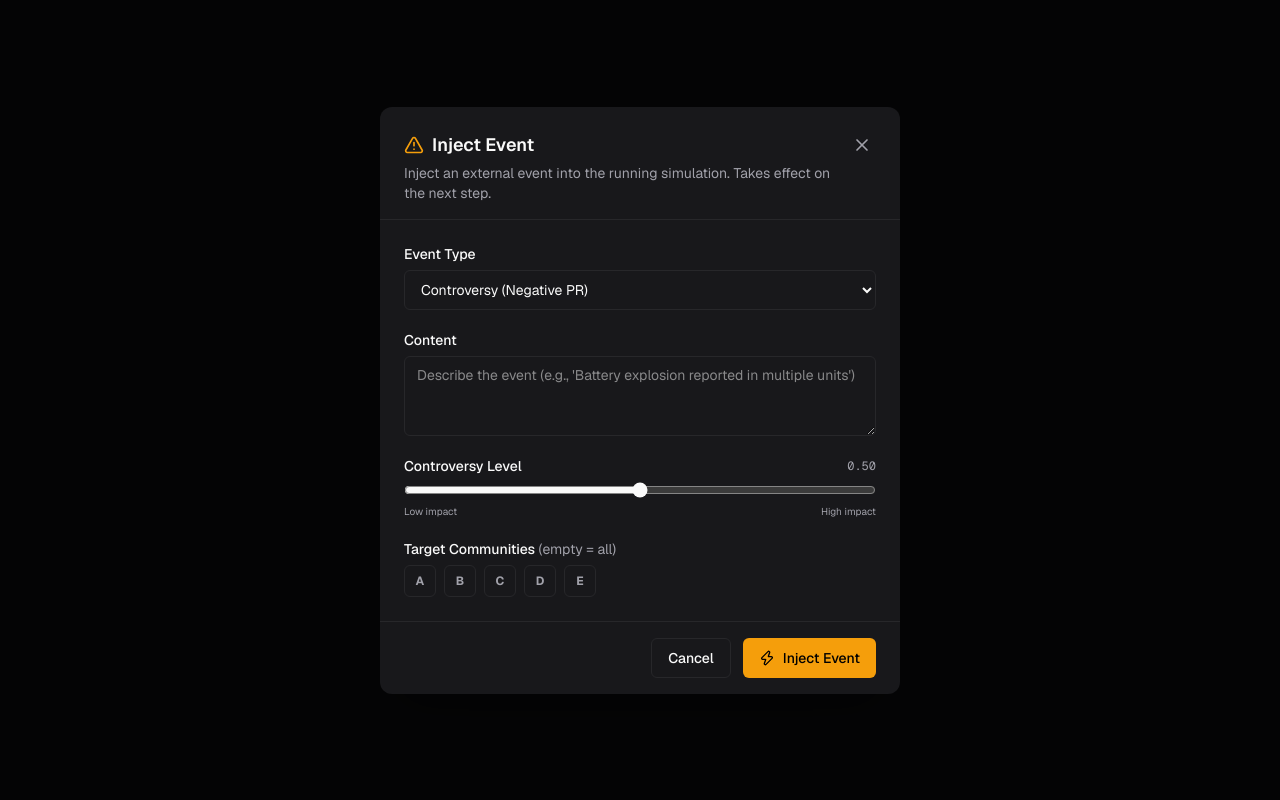
InjectEventModal › shows success view after successful injection
The width and height of the screenshot is (1280, 800).
Replace the text in the text box with placeholder "Describe the event" with "Test" at (640, 396), box [404, 356, 876, 436]
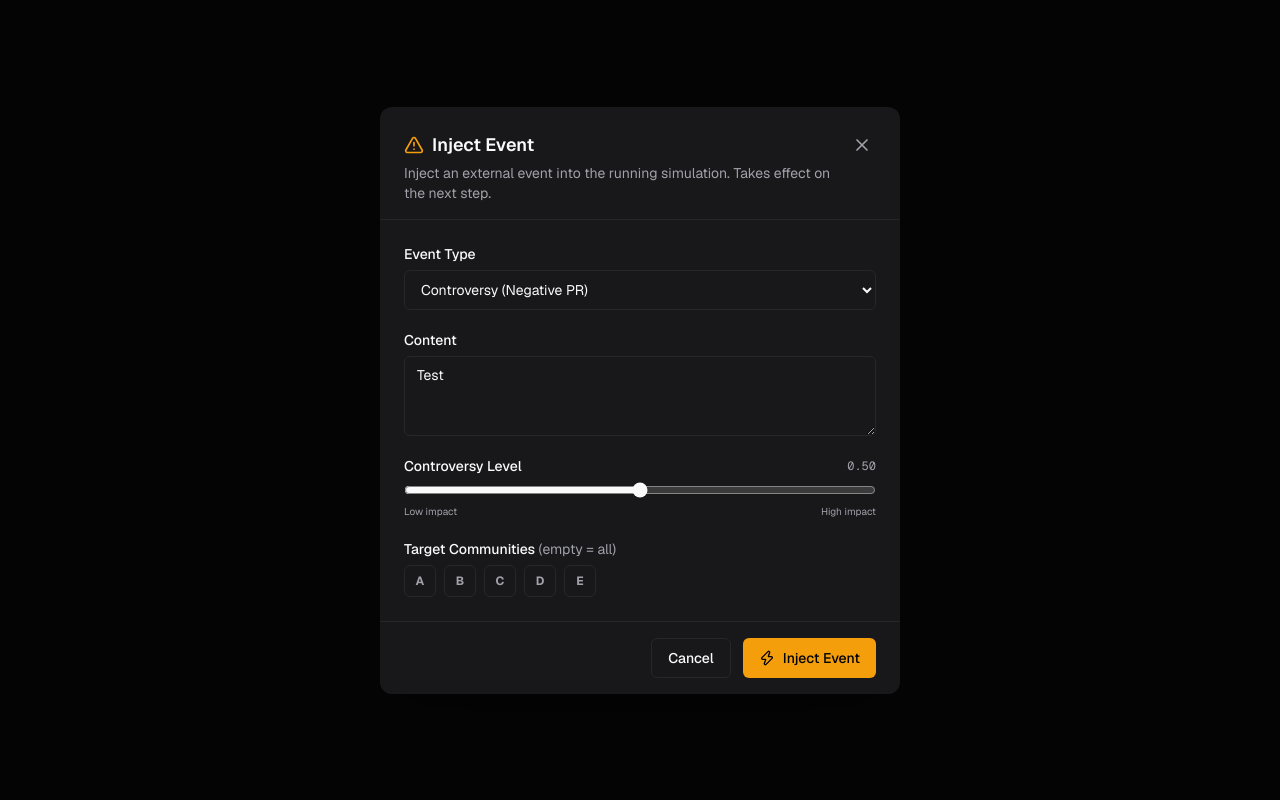
Click the button "Inject Event" at (809, 658), box [743, 638, 876, 678]
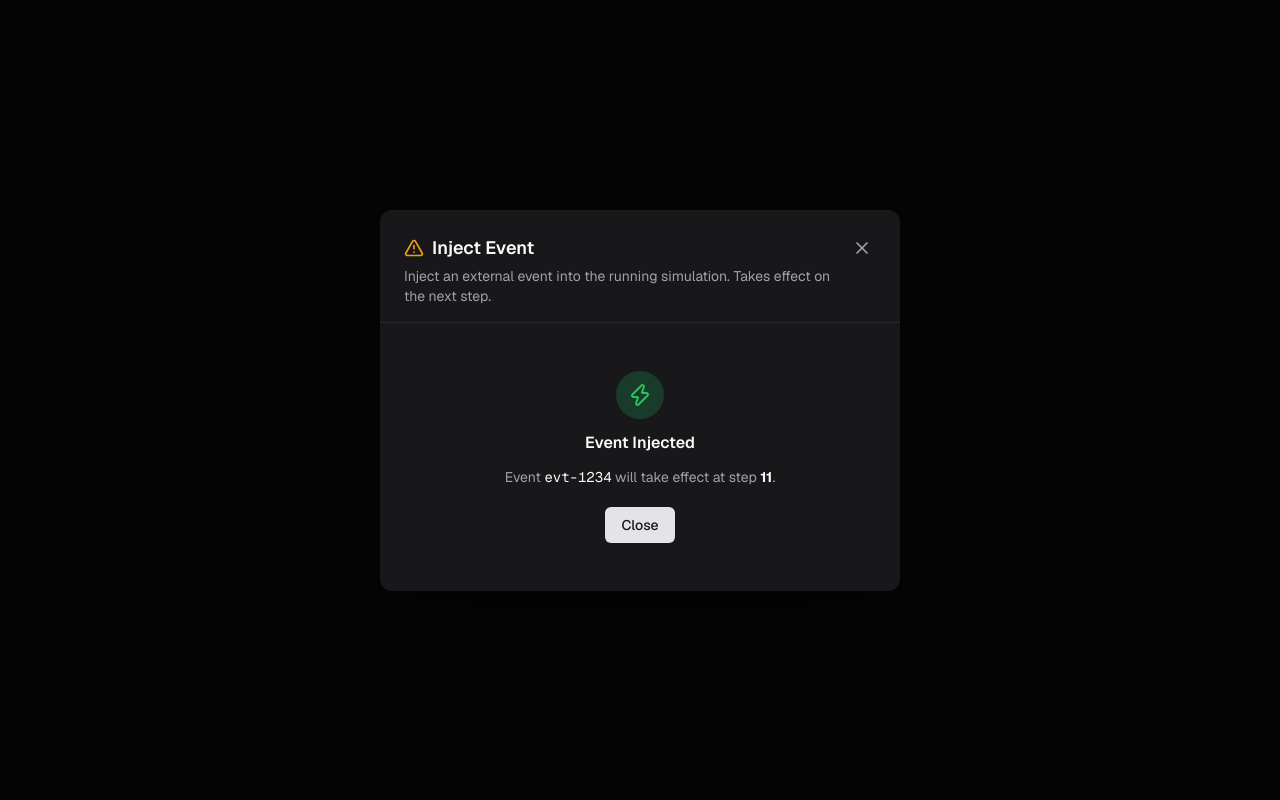
Check: the heading "Event Injected" is shown, box [585, 430, 695, 454]
Check: the text "evt-1234" is shown, box [544, 468, 612, 486]
Check: the text "11" is shown, box [760, 468, 772, 486]
